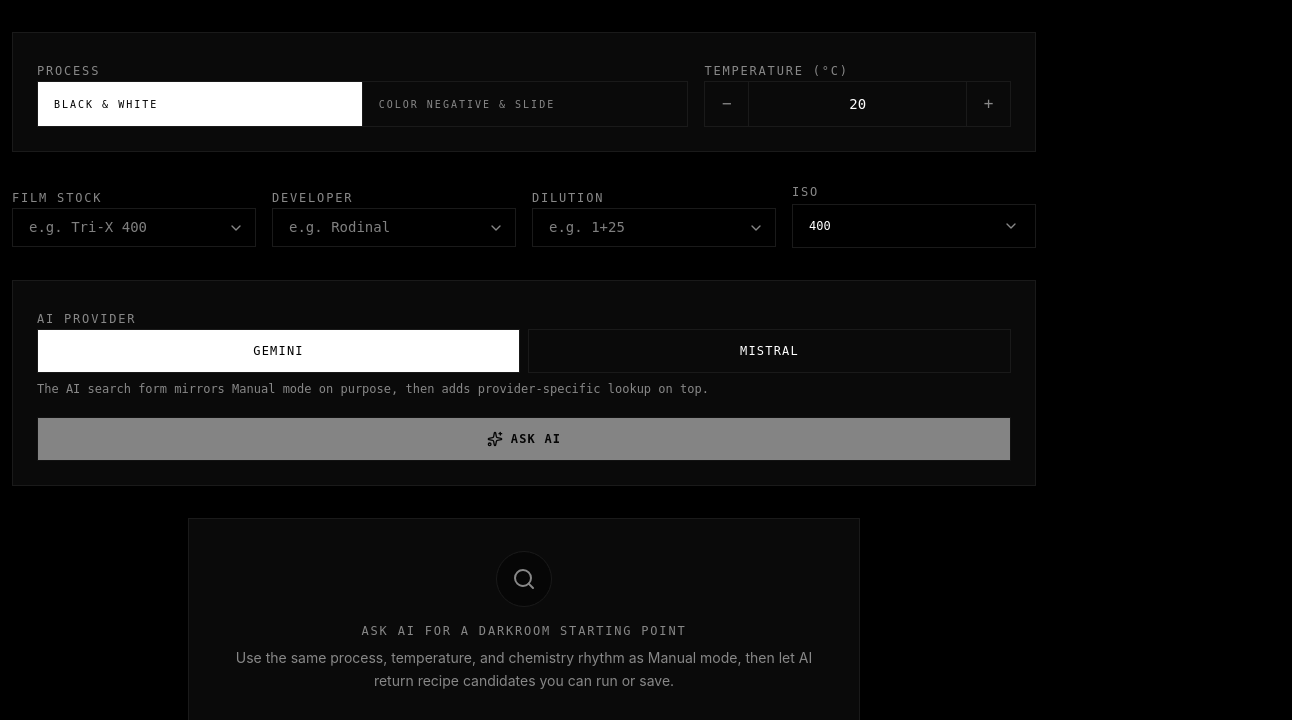
Test case: FilmSearch › offers shared dilution suggestions
Type "1+" into the dropdown labelled "Dilution" at (654, 228), box [532, 208, 776, 247]
(page scrolled)
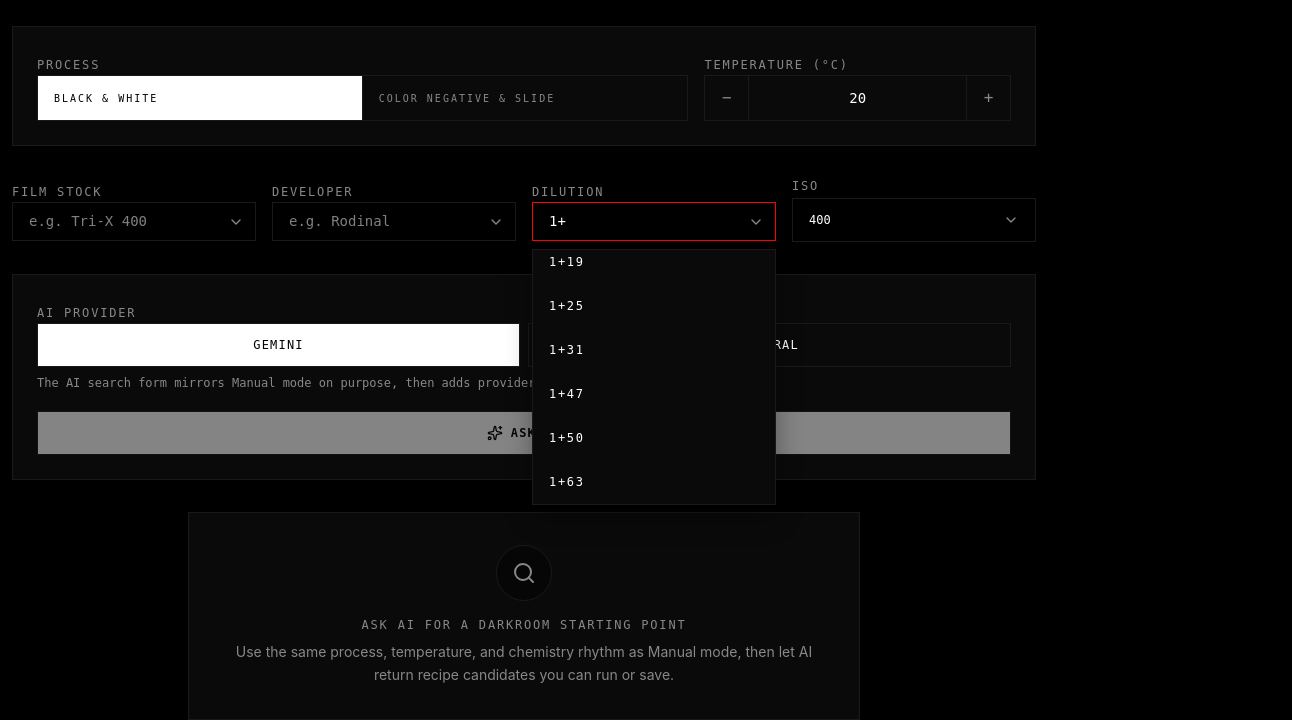
expect the option "1+25" is shown: met, box [533, 284, 775, 328]
expect the option "1+50" is shown: met, box [533, 416, 775, 460]
